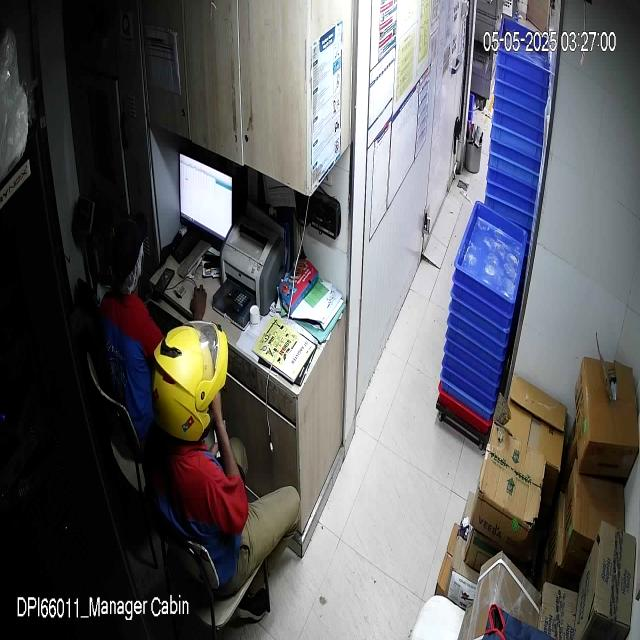helmet: (150, 319, 229, 445)
